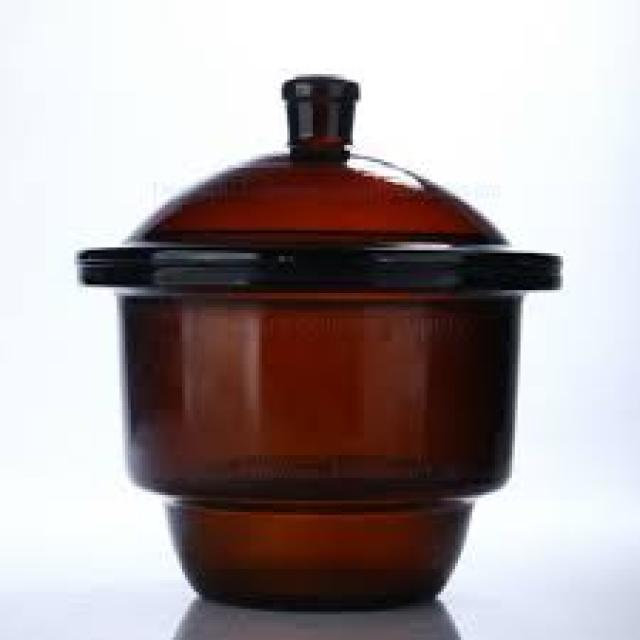glass: (74, 71, 560, 609), (80, 268, 560, 615), (77, 74, 560, 262)
